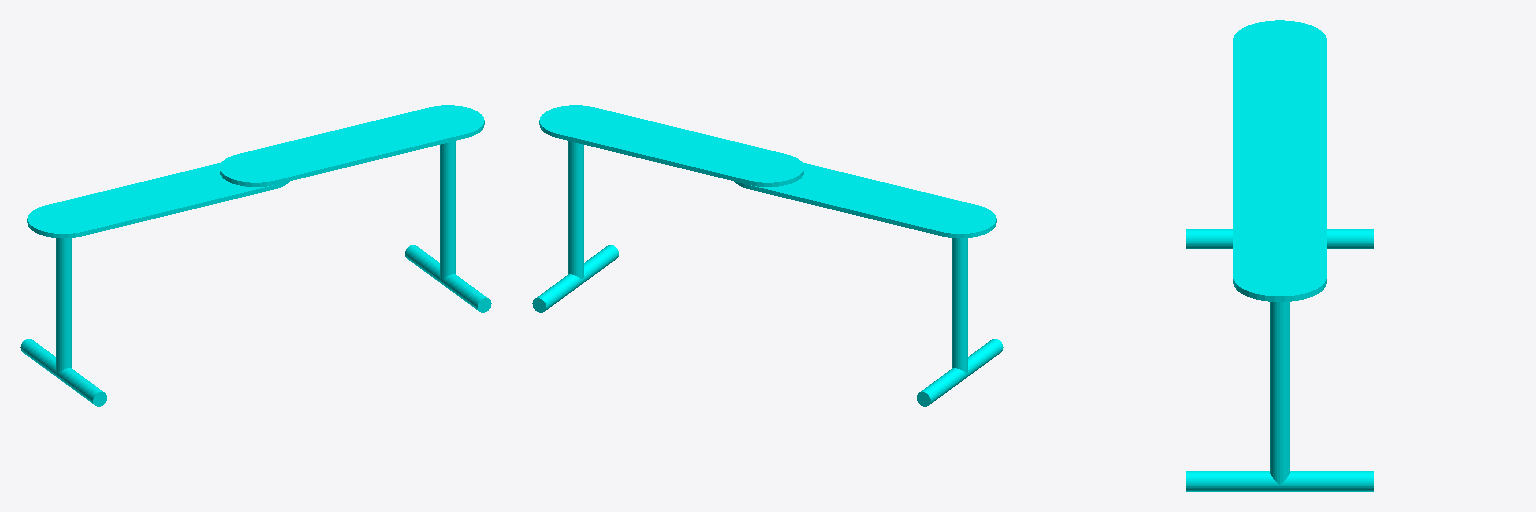
URDF robot description (path):
<?xml version="1.0"?>
<robot name="path">

  <link name="base_link">
    <inertial>
      <mass value="20.0"/>
      <inertia ixx="1.0" ixy="0.0" ixz="0.0" iyy="1.0" iyz="0.0" izz="1.0"/>
    </inertial>
  </link>

  <link name="path_link"> <visual>
      <origin rpy="0.0 0.0 0.0" xyz="0.0 0.0 0.0"/>
      <geometry>
        <mesh filename="package://uuv_visualization/meshes/path.stl" scale="1.0 1.0 1.0"/>
      </geometry>
      <material name="Cyan">
        <color rgba="0 1.0 1.0 1.0"/>
      </material>
    </visual>
    <collision>
      <origin rpy="1.57 0.0 0.0" xyz="0 0 0"/> <geometry>
        <box size="1.0 0.5 0.5"/>
      </geometry>
    </collision>
    <inertial>
      <mass value="0.1"/> 
      <inertia ixx="0.001" ixy="0" ixz="0" iyy="0.001" iyz="0" izz="0.001"/>
    </inertial>
  </link>

  <joint name="base_to_path" type="fixed">
    <parent link="base_link"/>
    <child link="path_link"/> <origin xyz="0 0 0" rpy="0 0 0"/>
  </joint>

  <gazebo reference="base_link">
    <static>true</static> <gravity>0</gravity>
  </gazebo>

  <gazebo>
    <plugin
        filename="ignition-gazebo-pose-publisher-system"
        name="ignition::gazebo::systems::PosePublisher">
        <publish_link_pose>false</publish_link_pose>
        <publish_model_pose>true</publish_model_pose>
        <update_frequency>50</update_frequency> 
    </plugin>
  </gazebo>

</robot>

--- What the picture shows (computed from the rendered views, not written in the file) ---
Views: 3 orthographic renders of the robot side by side, from view 1: azimuth 30°, elevation 25°; view 2: azimuth 150°, elevation 25°; view 3: azimuth 270°, elevation 25°.
Model path with 2 links and 1 joints (1 fixed), rooted at base_link, posed all joints at 0.
Visible links, largest first — view 1: path_link; view 2: path_link; view 3: path_link.
Boxes of the visible links, x1,y1,x2,y2 form: path_link: [20, 105, 491, 406]; path_link: [532, 105, 1003, 406]; path_link: [1186, 20, 1373, 491].
Size in the robot's own frame: 1.06 by 0.3 by 0.3766 metres.
1 mesh visuals loaded from 1 distinct referenced files (1 binary STL).
